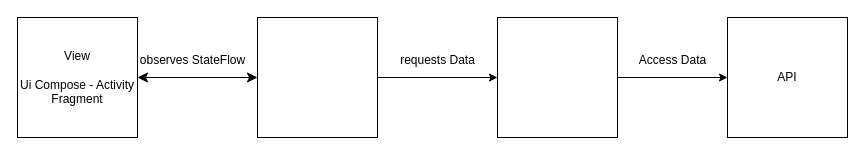
This 865x155 diagram has some shape labels left out. Each missing label, with the centre of its shape:
Repository Manages Data: the point at 557,77
ViewModel Explose Ui data - logical: the point at 317,77
